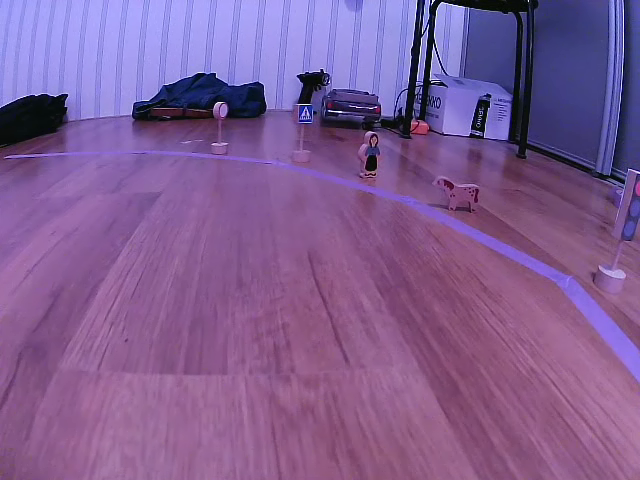mens: (357, 129, 382, 181)
paard: (429, 173, 480, 216)
wegdicht: (214, 102, 228, 120)
zebrapad: (295, 105, 312, 124)
